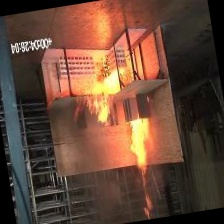fire: (109, 102, 173, 222), (73, 41, 137, 136)
